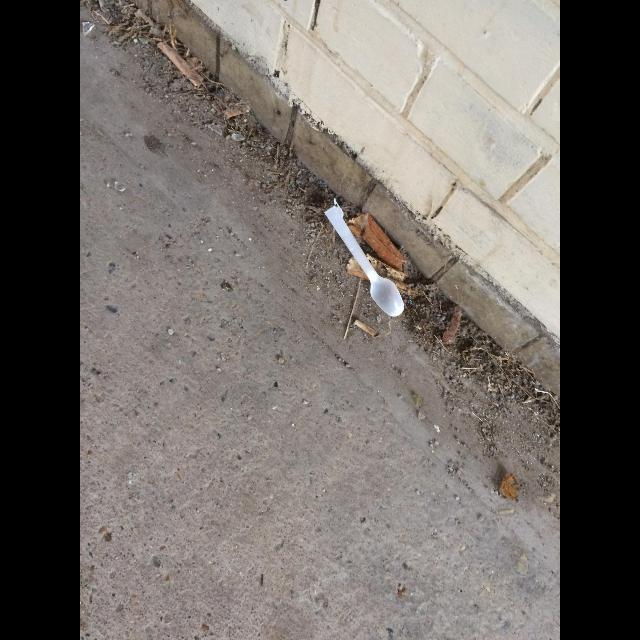Plastic: (324, 206, 404, 316)
